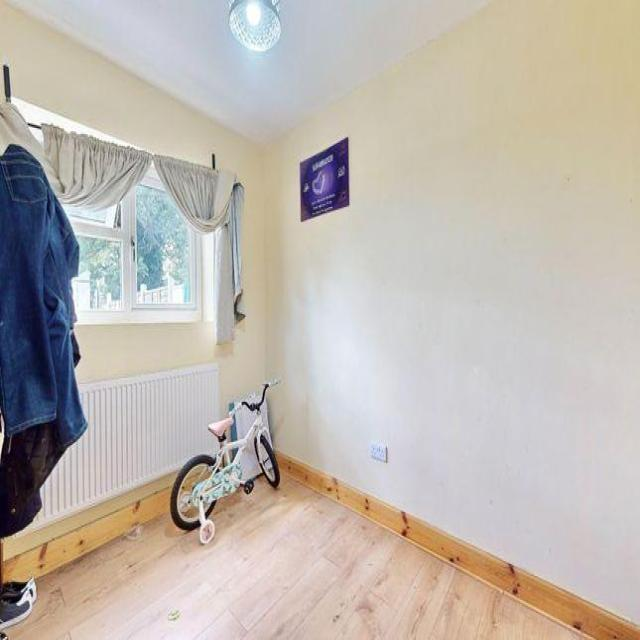Wall: (275, 3, 640, 623), (1, 0, 266, 404), (8, 476, 583, 639), (10, 0, 489, 142), (265, 94, 354, 464)
